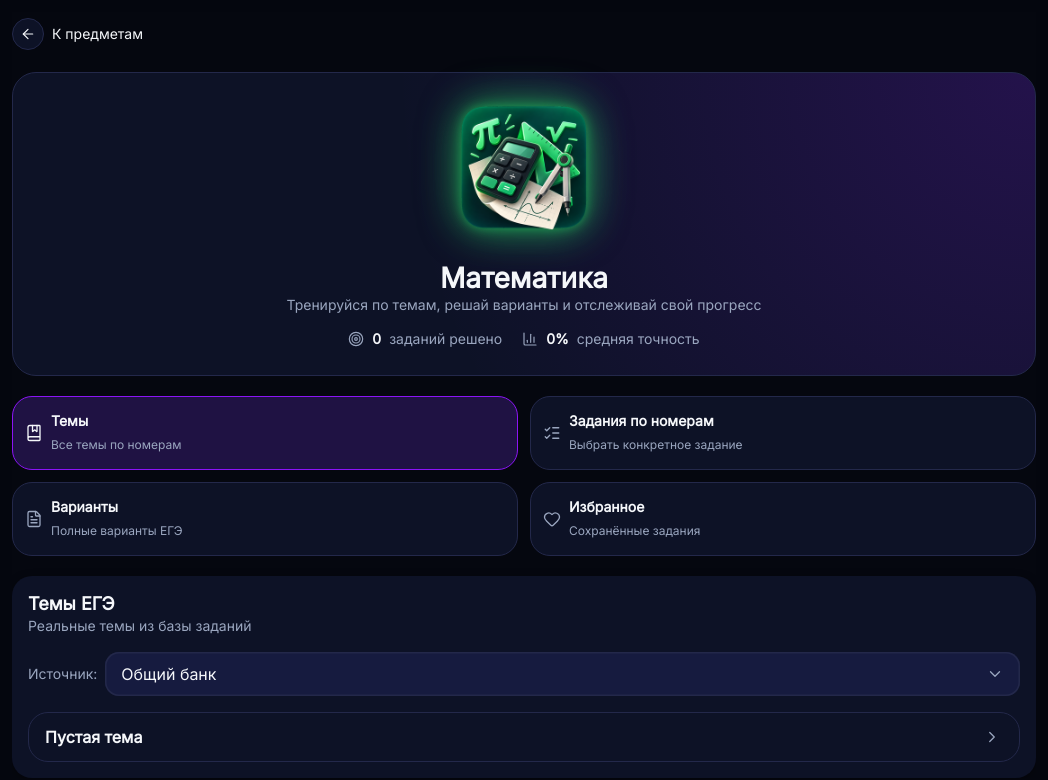
Test: SubjectDesktop — Темы (real API, no fake hash) › a topic with total=0 disables the start button rather than dividing by zero
The width and height of the screenshot is (1048, 780).
Click the text "Пустая тема" at (94,737), box [45,727,142,747]
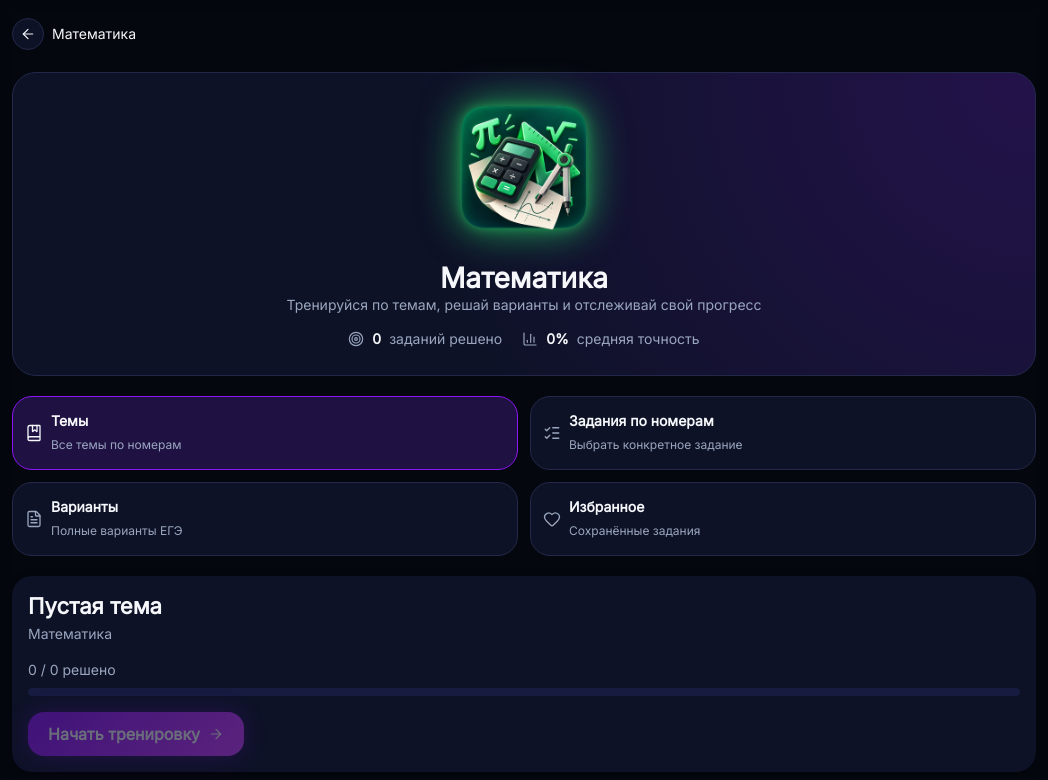
expect the button "Начать тренировку" is disabled: met, box [28,712,244,756]
